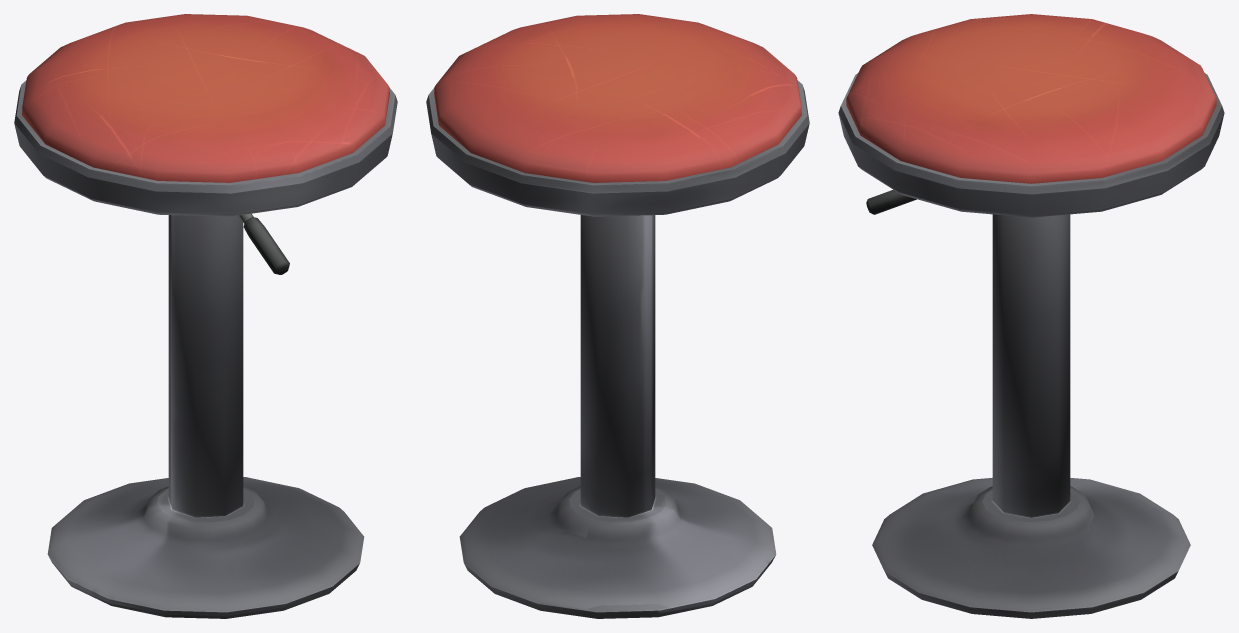
File: barstool1.gltf
3 renders of one model, left to right at view 1: azimuth 30°, elevation 25°; view 2: azimuth 150°, elevation 25°; view 3: azimuth 270°, elevation 25°, orthographic.
Visible parts, largest first — view 1: BarChair, Cushion, Handle; view 2: BarChair, Cushion; view 3: BarChair, Cushion, Handle.
Boxes of the visible parts, x1,y1,x2,y2 form: BarChair: (14,80,397,618); Cushion: (22,14,389,182); Handle: (239,213,289,274); BarChair: (426,80,809,618); Cushion: (434,14,801,182); BarChair: (838,73,1224,618); Cushion: (846,14,1216,183); Handle: (866,189,916,214).
Bounding box in the file's own units: 0.4302 × 0.5895 × 0.4302.
Materials: 1 (1 with a texture image).
